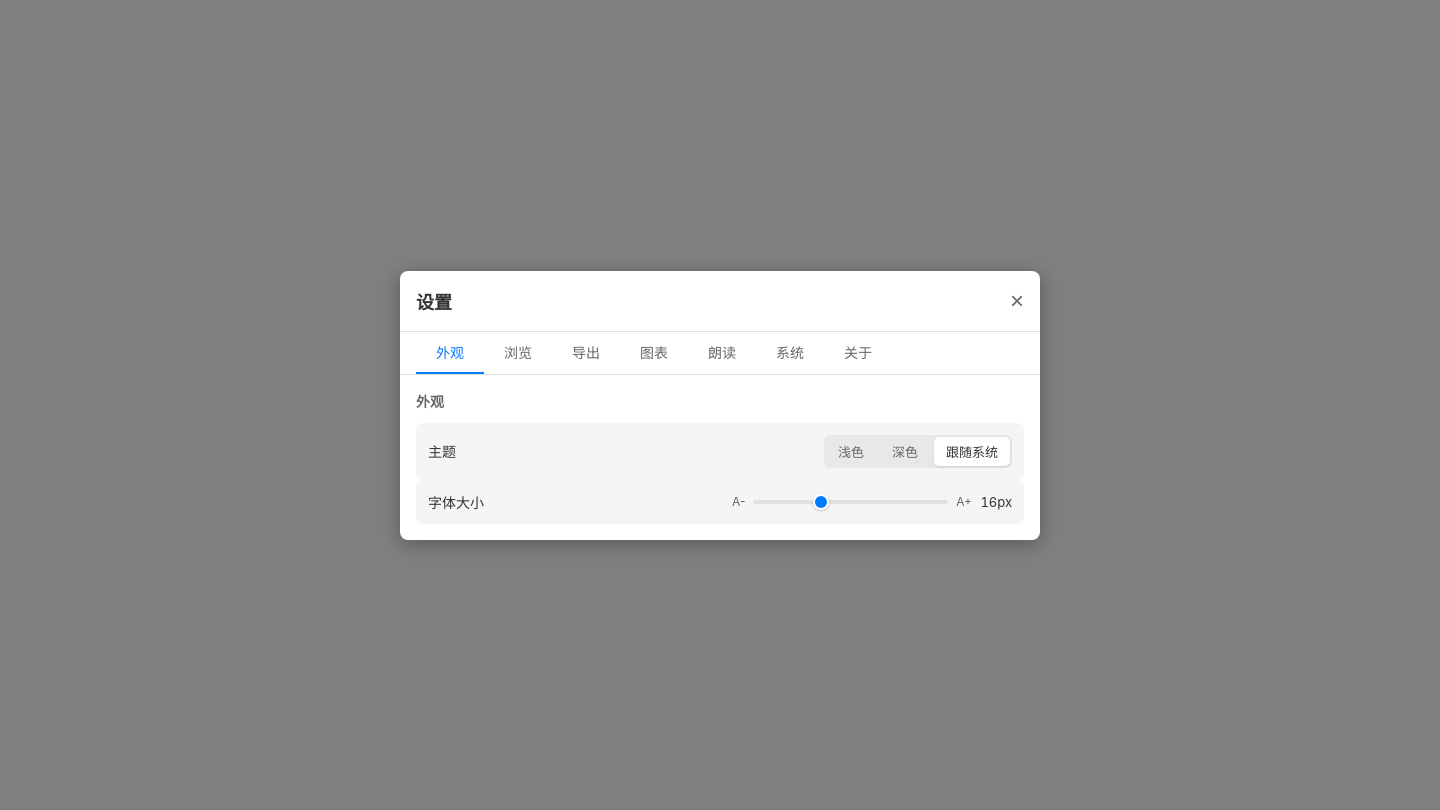
SettingsPanel DOCX service styles › 在系统设置中按 CLI 安装状态互斥显示安装或卸载入口
Click the tab "系统" at (790, 352), box [756,332,824,374]
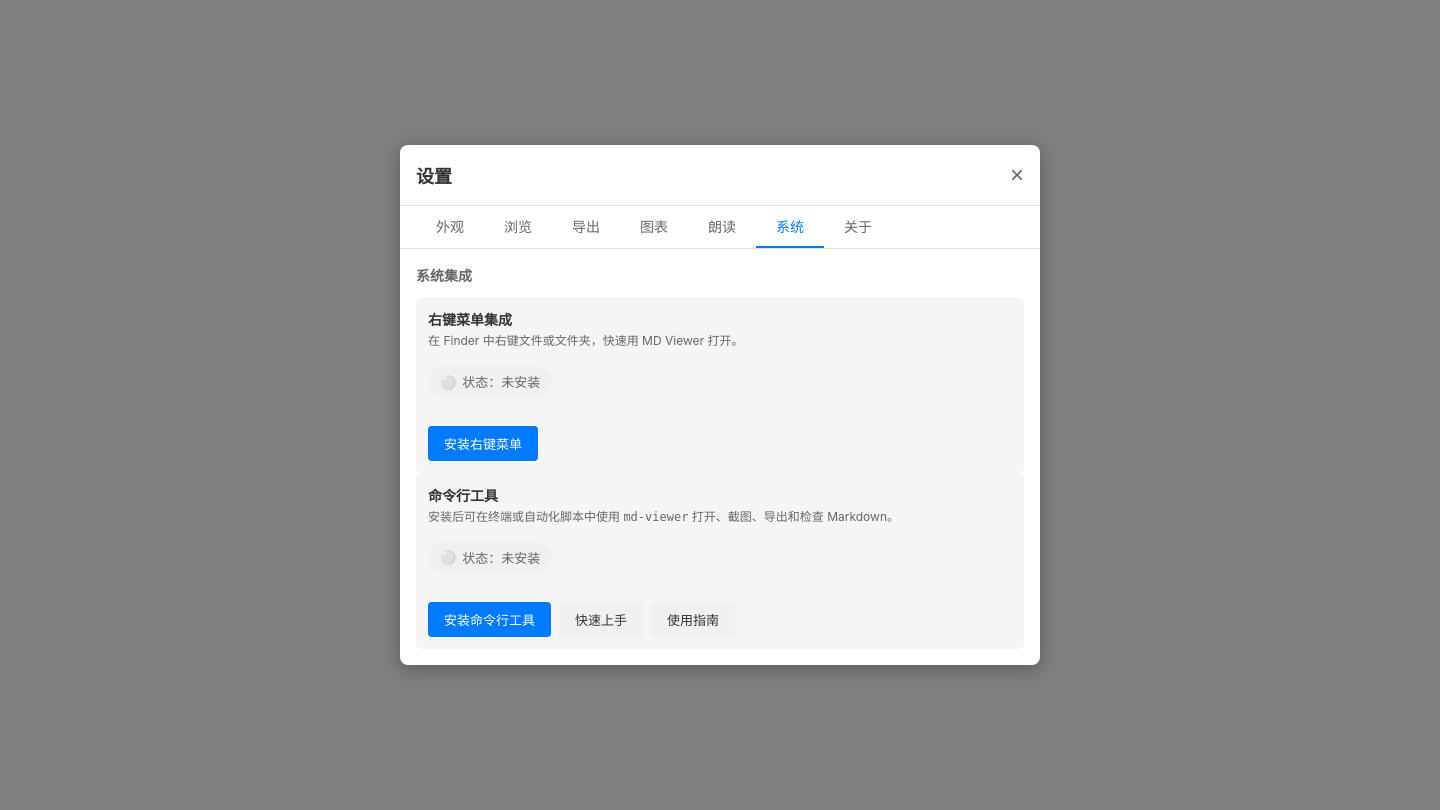
Expected: the button "卸载命令行工具" is not shown
Expected: the heading "命令行工具" is shown, [428,487,498,504]
Expected: the button "安装命令行工具" is shown
Click the button "安装命令行工具" at (490, 619), box [428,602,551,637]
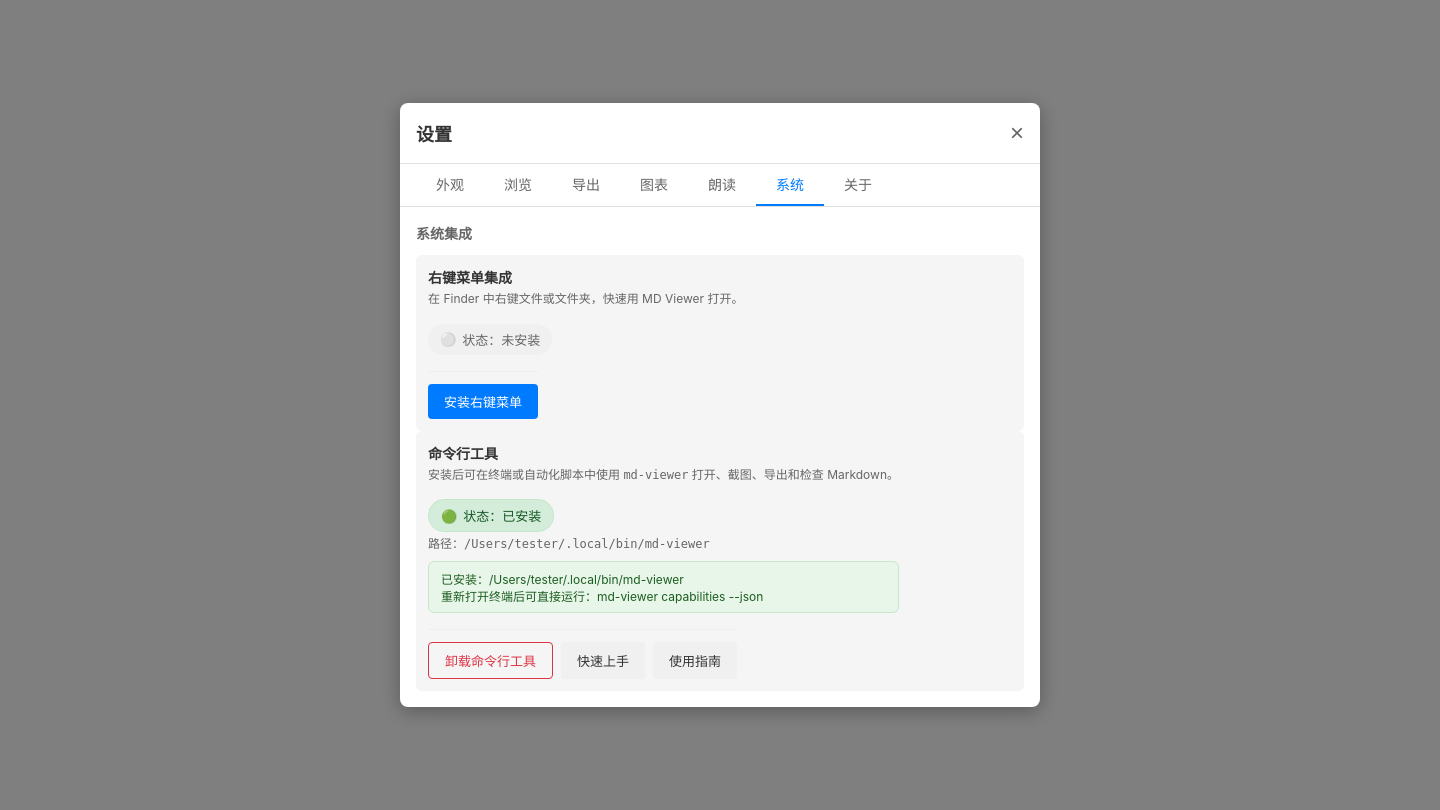
Expected: the button "卸载命令行工具" is shown, [428,642,553,679]
Expected: the button "安装命令行工具" is gone
